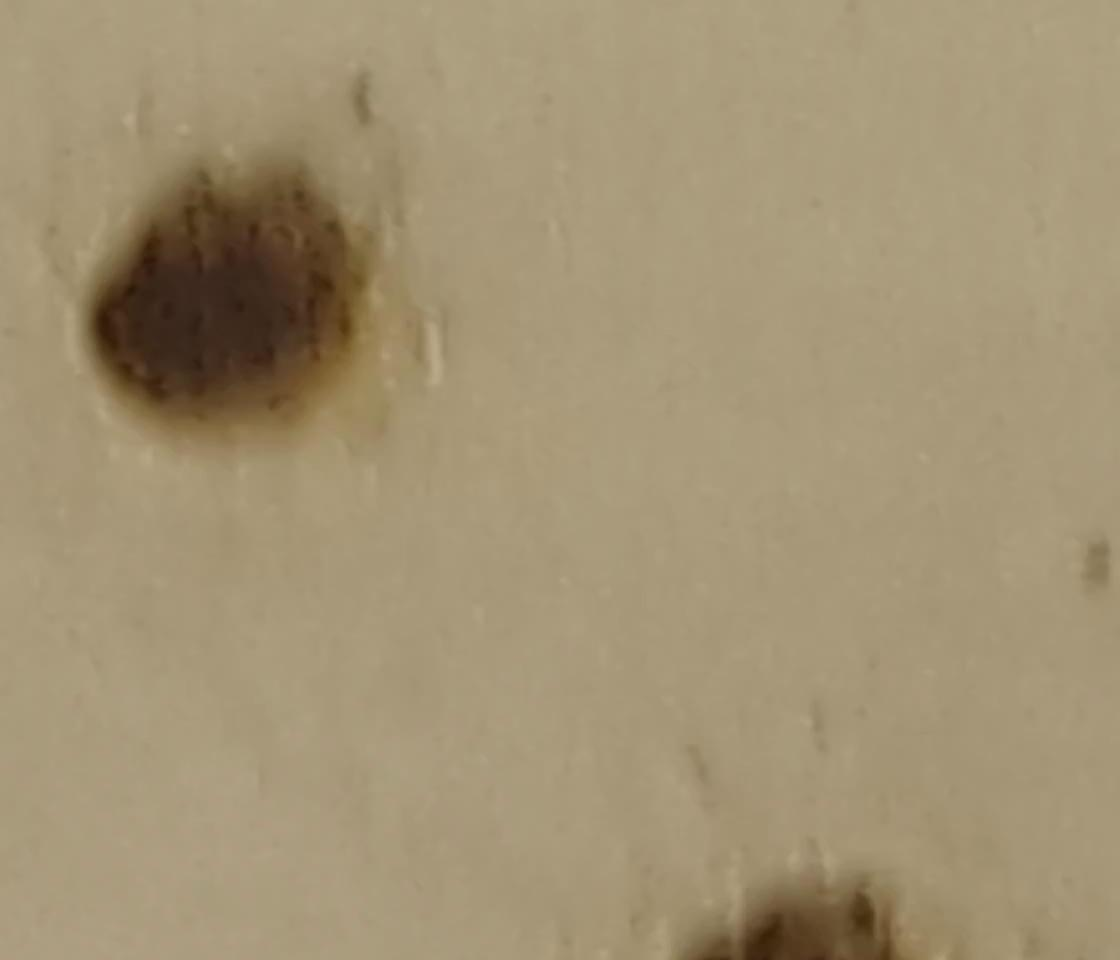rust: (104, 205, 330, 399), (707, 908, 871, 960)
